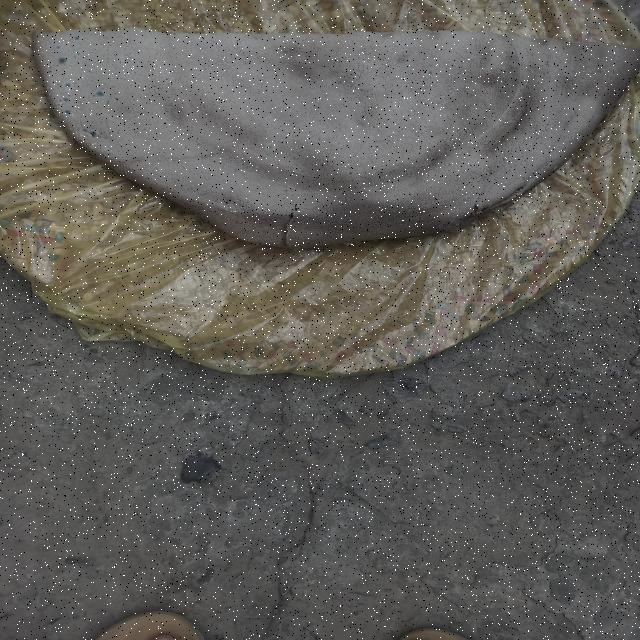injera_mold: (264, 142, 275, 152), (58, 56, 68, 64), (85, 130, 98, 136), (64, 108, 72, 115), (225, 209, 237, 213), (96, 91, 104, 97), (64, 82, 72, 87), (72, 36, 82, 40), (577, 134, 582, 142), (426, 70, 434, 74), (63, 97, 69, 102), (47, 69, 53, 74), (77, 52, 82, 56), (56, 45, 61, 49), (586, 73, 592, 76), (592, 73, 597, 76), (92, 94, 96, 97), (571, 137, 575, 139), (228, 203, 230, 205), (241, 206, 243, 208), (583, 67, 585, 69), (589, 80, 591, 82), (602, 68, 604, 70), (583, 71, 585, 72), (594, 80, 596, 81), (237, 200, 238, 201), (243, 211, 244, 212)
